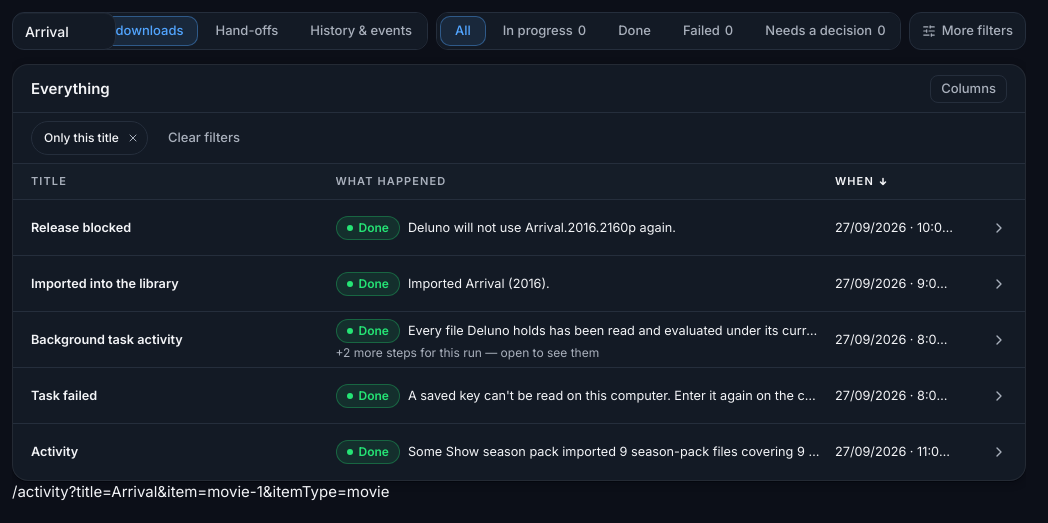
Test: Activity history keeps its filters in the address (#1100) › limits to one title from its page link and lets a person step out of it
This screenshot has width=1048, height=523.
Expected: the text "Imported Arrival (2016)." is shown, [408,276,550,292]
Click the button named "Remove filter Only this title".
click(133, 138)  # box [123,128,143,148]
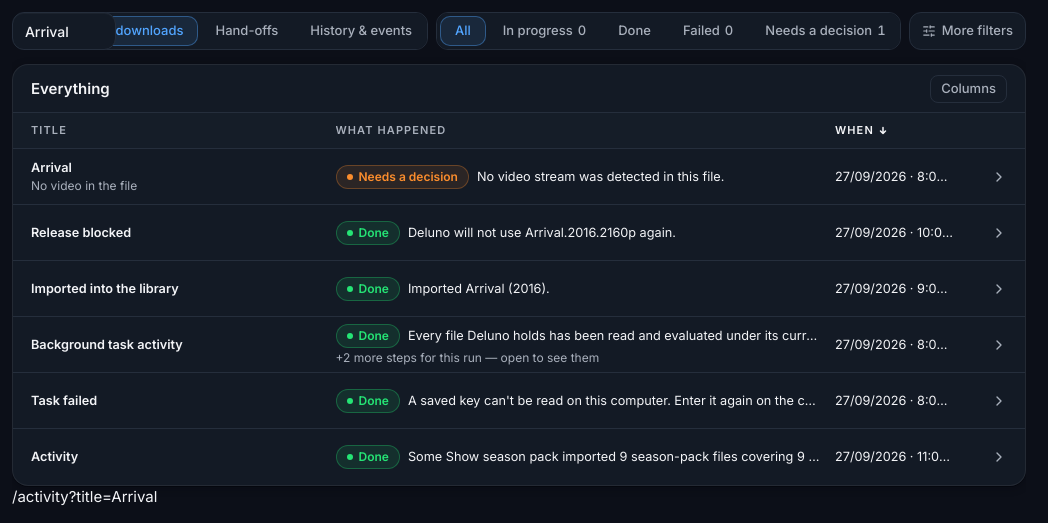
Expected: the text labelled "address" no longer shows "item="
